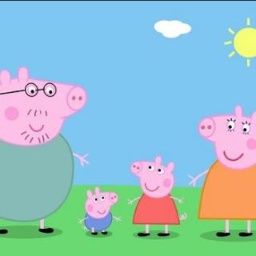Peppa: (126, 156, 185, 238)
